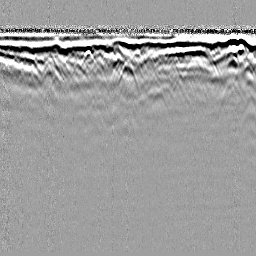cavity: (117, 60, 139, 89)
